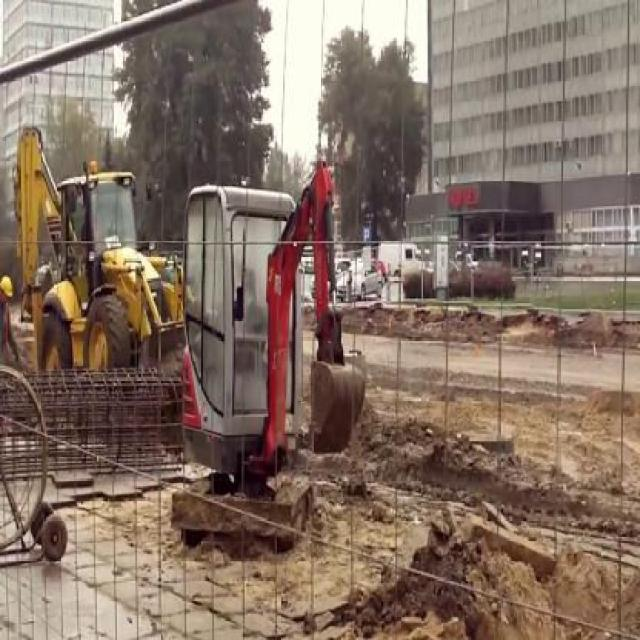excavator: (167, 152, 365, 556)
